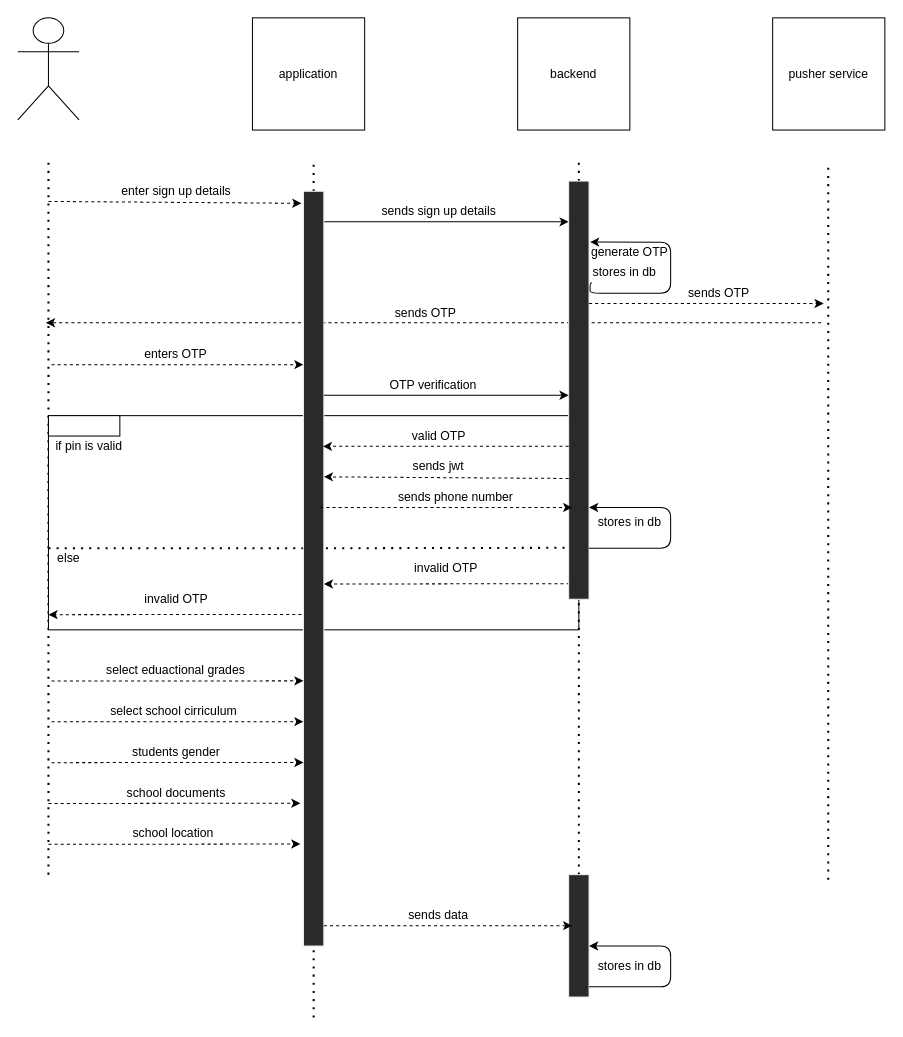
Image size: 903x1037. Some labels were removed from this diagram. The shapes that lost their labels are listed below. From the top down, each one's centre as x and y in pixels, then its label:
At (x=48, y=68): "Actor".
At (x=83, y=425): "alternative".
